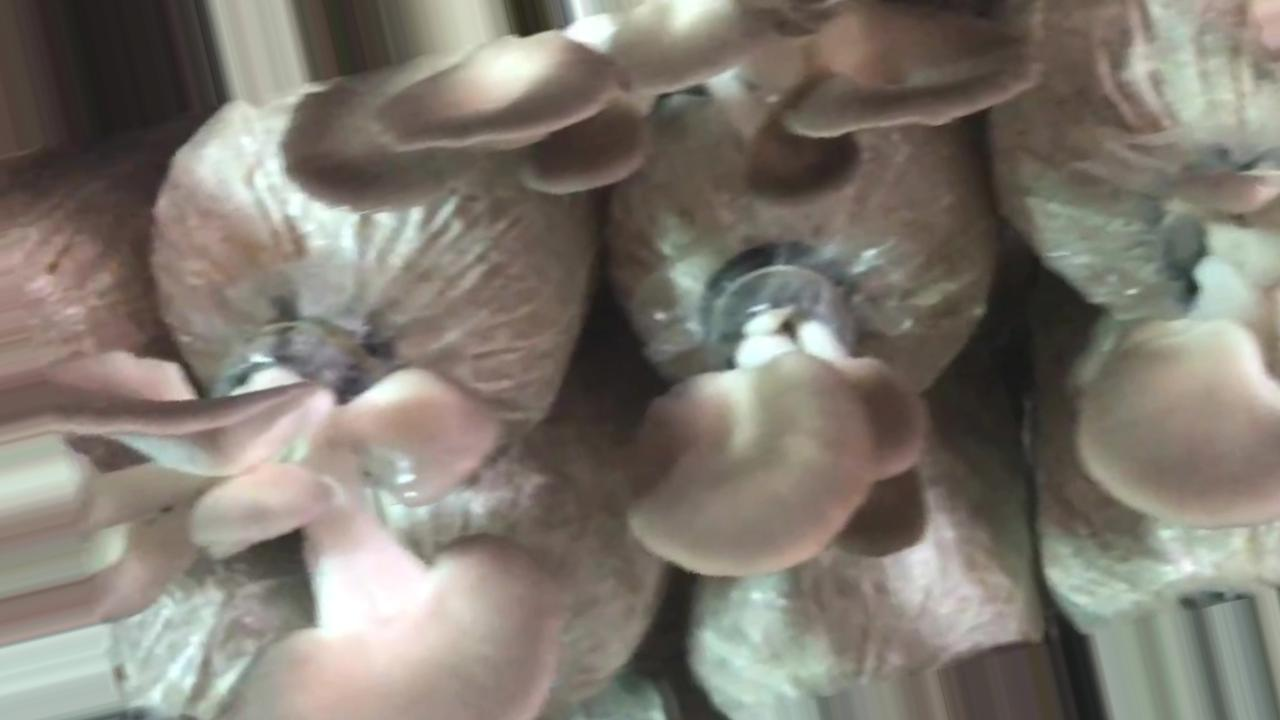nam: (1, 342, 557, 720), (284, 1, 1048, 200), (638, 249, 930, 584), (1082, 216, 1280, 527)
